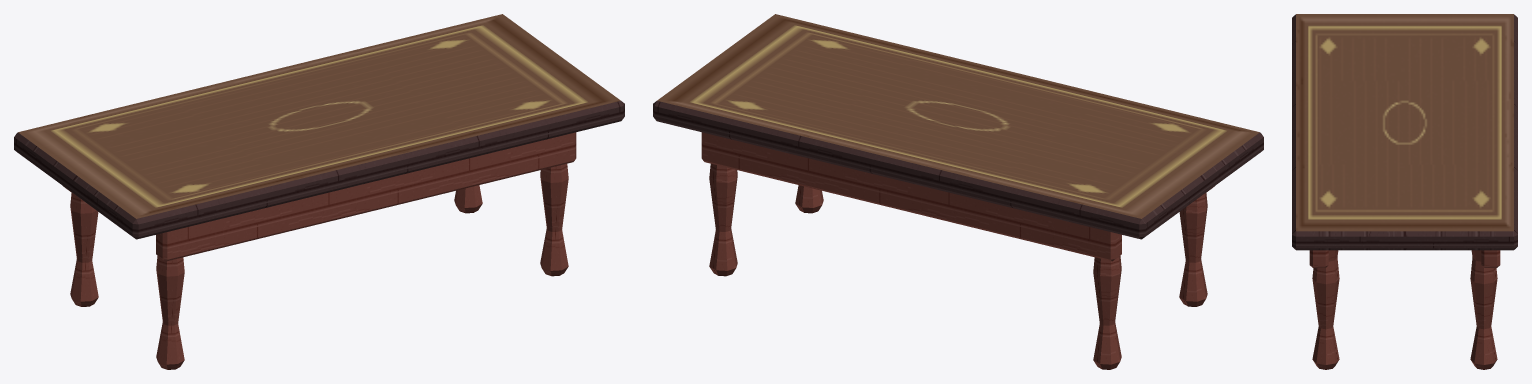
File: MD_41_DiningTable.fbx
The picture shows the model from 3 angles, left to right: view 1: azimuth 30°, elevation 25°; view 2: azimuth 150°, elevation 25°; view 3: azimuth 270°, elevation 25°; orthographic projection. The views are drawn at different scales.
Visible parts, largest first — view 1: MD_41_DiningTable_thick_inlaid_top, MD_41_DiningTable_carved_apron, MD_41_DiningTable_turned_leg, MD_41_DiningTable_turned_leg.002, MD_41_DiningTable_turned_leg.001, MD_41_DiningTable_turned_leg.003; view 2: MD_41_DiningTable_thick_inlaid_top, MD_41_DiningTable_carved_apron.001, MD_41_DiningTable_turned_leg.001, MD_41_DiningTable_turned_leg.003, MD_41_DiningTable_turned_leg, MD_41_DiningTable_turned_leg.002; view 3: MD_41_DiningTable_thick_inlaid_top, MD_41_DiningTable_turned_leg.002, MD_41_DiningTable_turned_leg.003, MD_41_DiningTable_carved_apron, MD_41_DiningTable_carved_apron.001.
Boxes of the visible parts, box(x1,y1,x2,y2) form: MD_41_DiningTable_thick_inlaid_top: box(14, 14, 624, 239); MD_41_DiningTable_carved_apron: box(156, 132, 576, 261); MD_41_DiningTable_turned_leg: box(156, 255, 184, 369); MD_41_DiningTable_turned_leg.002: box(540, 163, 568, 276); MD_41_DiningTable_turned_leg.001: box(70, 193, 98, 306); MD_41_DiningTable_turned_leg.003: box(454, 185, 482, 213); MD_41_DiningTable_thick_inlaid_top: box(653, 14, 1263, 239); MD_41_DiningTable_carved_apron.001: box(701, 132, 1121, 261); MD_41_DiningTable_turned_leg.001: box(1093, 255, 1121, 369); MD_41_DiningTable_turned_leg.003: box(709, 163, 737, 276); MD_41_DiningTable_turned_leg: box(1179, 193, 1207, 306); MD_41_DiningTable_turned_leg.002: box(795, 185, 823, 213); MD_41_DiningTable_thick_inlaid_top: box(1292, 14, 1517, 250); MD_41_DiningTable_turned_leg.002: box(1312, 250, 1339, 369); MD_41_DiningTable_turned_leg.003: box(1470, 250, 1497, 369); MD_41_DiningTable_carved_apron: box(1309, 250, 1328, 267); MD_41_DiningTable_carved_apron.001: box(1481, 250, 1500, 267).
Bounding box in the file's own units: 2.5 × 0.83 × 1.08.
4 materials, 4 textured.
